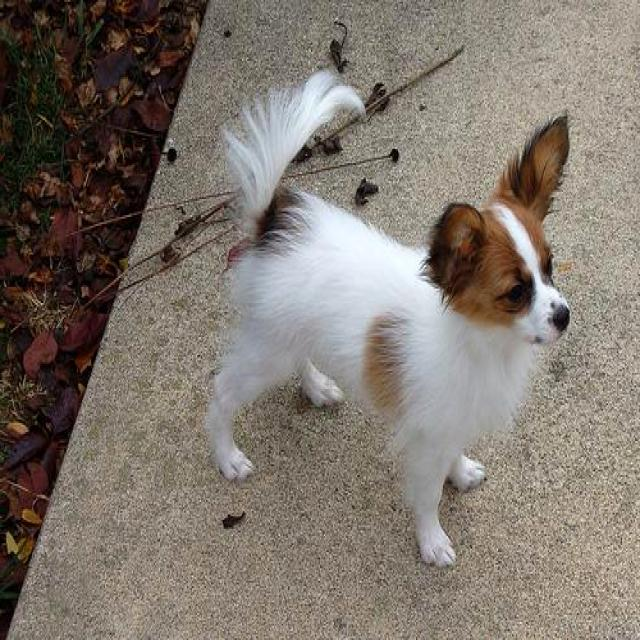papillon: (210, 75, 574, 570)
